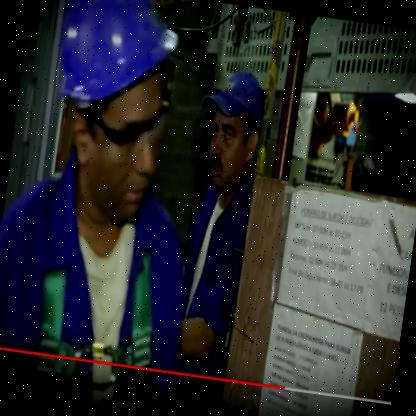capacete: (30, 0, 188, 226)
sem_capacete: (186, 61, 270, 196)
sem_colete_refletivo: (0, 161, 197, 412), (161, 175, 260, 415)
